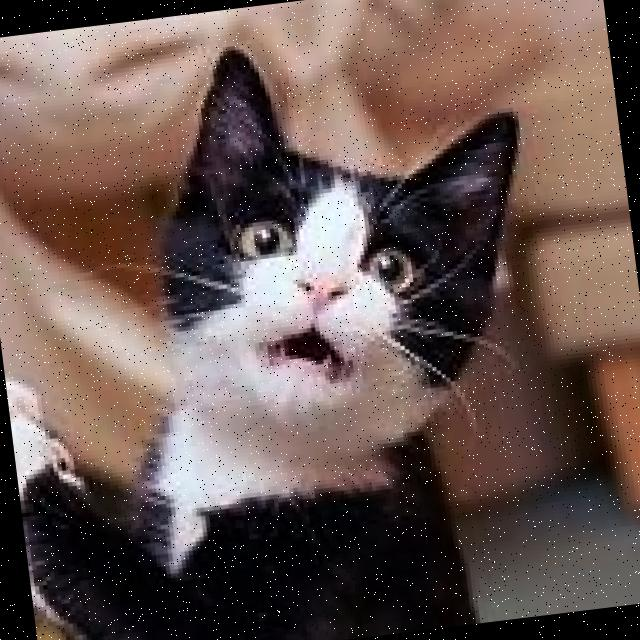Surprised: (201, 176, 450, 427)
